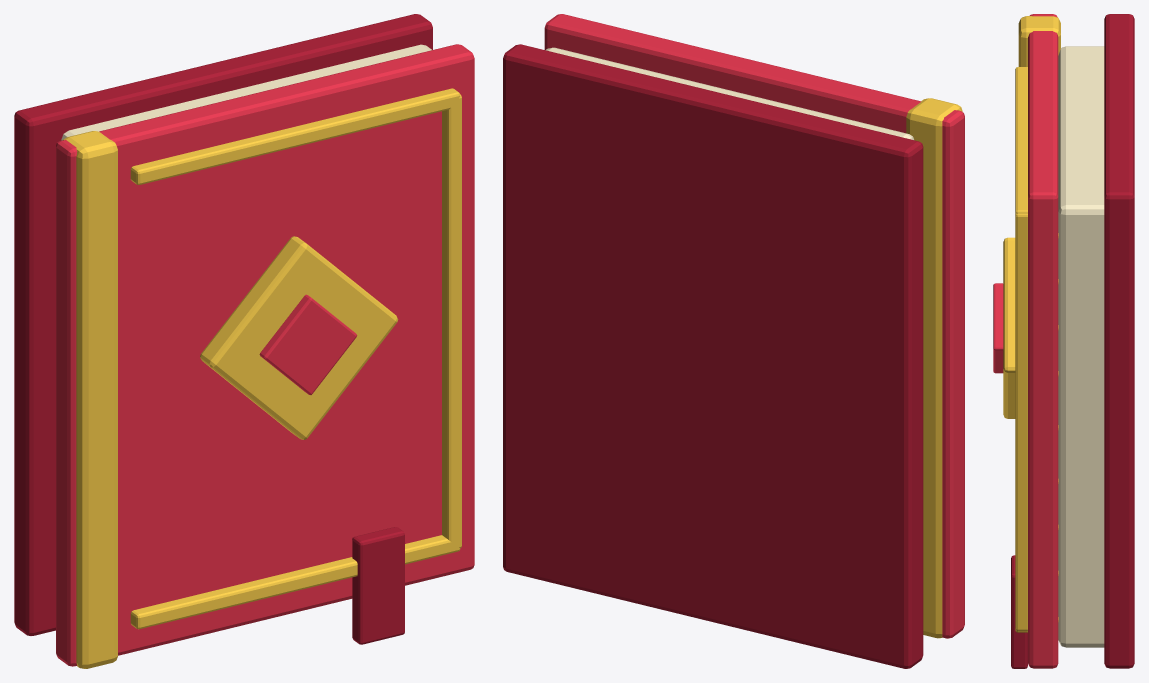
File: Book.glb
3 views of the same model, side by side, from view 1: azimuth 30°, elevation 25°; view 2: azimuth 150°, elevation 25°; view 3: azimuth 270°, elevation 25° (orthographic). The views are drawn at different scales.
Parts seen in each view (by area): view 1: Red upper cover, Dark red lower cover, Gold spine, Raised book crest, Gold cover fore-edge, Gold cover border.001, Gold cover border, Ribbon, Crest ruby, Cream page block; view 2: Dark red lower cover, Red upper cover, Gold spine, Cream page block; view 3: Cream page block, Dark red lower cover, Red upper cover, Gold cover fore-edge, Raised book crest, Gold cover border.001, Gold spine, Ribbon, Crest ruby.
Part boxes in pixels (<box>): Red upper cover: <box>56,44,474,666</box>; Dark red lower cover: <box>14,14,432,635</box>; Gold spine: <box>63,131,117,668</box>; Raised book crest: <box>200,236,398,439</box>; Gold cover fore-edge: <box>442,94,461,548</box>; Gold cover border.001: <box>130,88,460,184</box>; Gold cover border: <box>130,535,460,629</box>; Ribbon: <box>352,527,404,644</box>; Crest ruby: <box>259,294,357,394</box>; Cream page block: <box>61,44,431,140</box>; Dark red lower cover: <box>503,44,923,668</box>; Red upper cover: <box>544,14,964,638</box>; Gold spine: <box>906,98,962,638</box>; Cream page block: <box>545,47,913,139</box>; Cream page block: <box>1058,46,1104,647</box>; Dark red lower cover: <box>1104,14,1134,668</box>; Red upper cover: <box>1028,14,1058,668</box>; Gold cover fore-edge: <box>1015,214,1027,630</box>; Raised book crest: <box>1003,237,1015,418</box>; Gold cover border.001: <box>1015,67,1027,214</box>; Gold spine: <box>1018,16,1060,66</box>; Ribbon: <box>1011,555,1027,668</box>; Crest ruby: <box>993,283,1003,373</box>.
Size of the model in its own units: 2.55 by 3.34 by 0.835.
